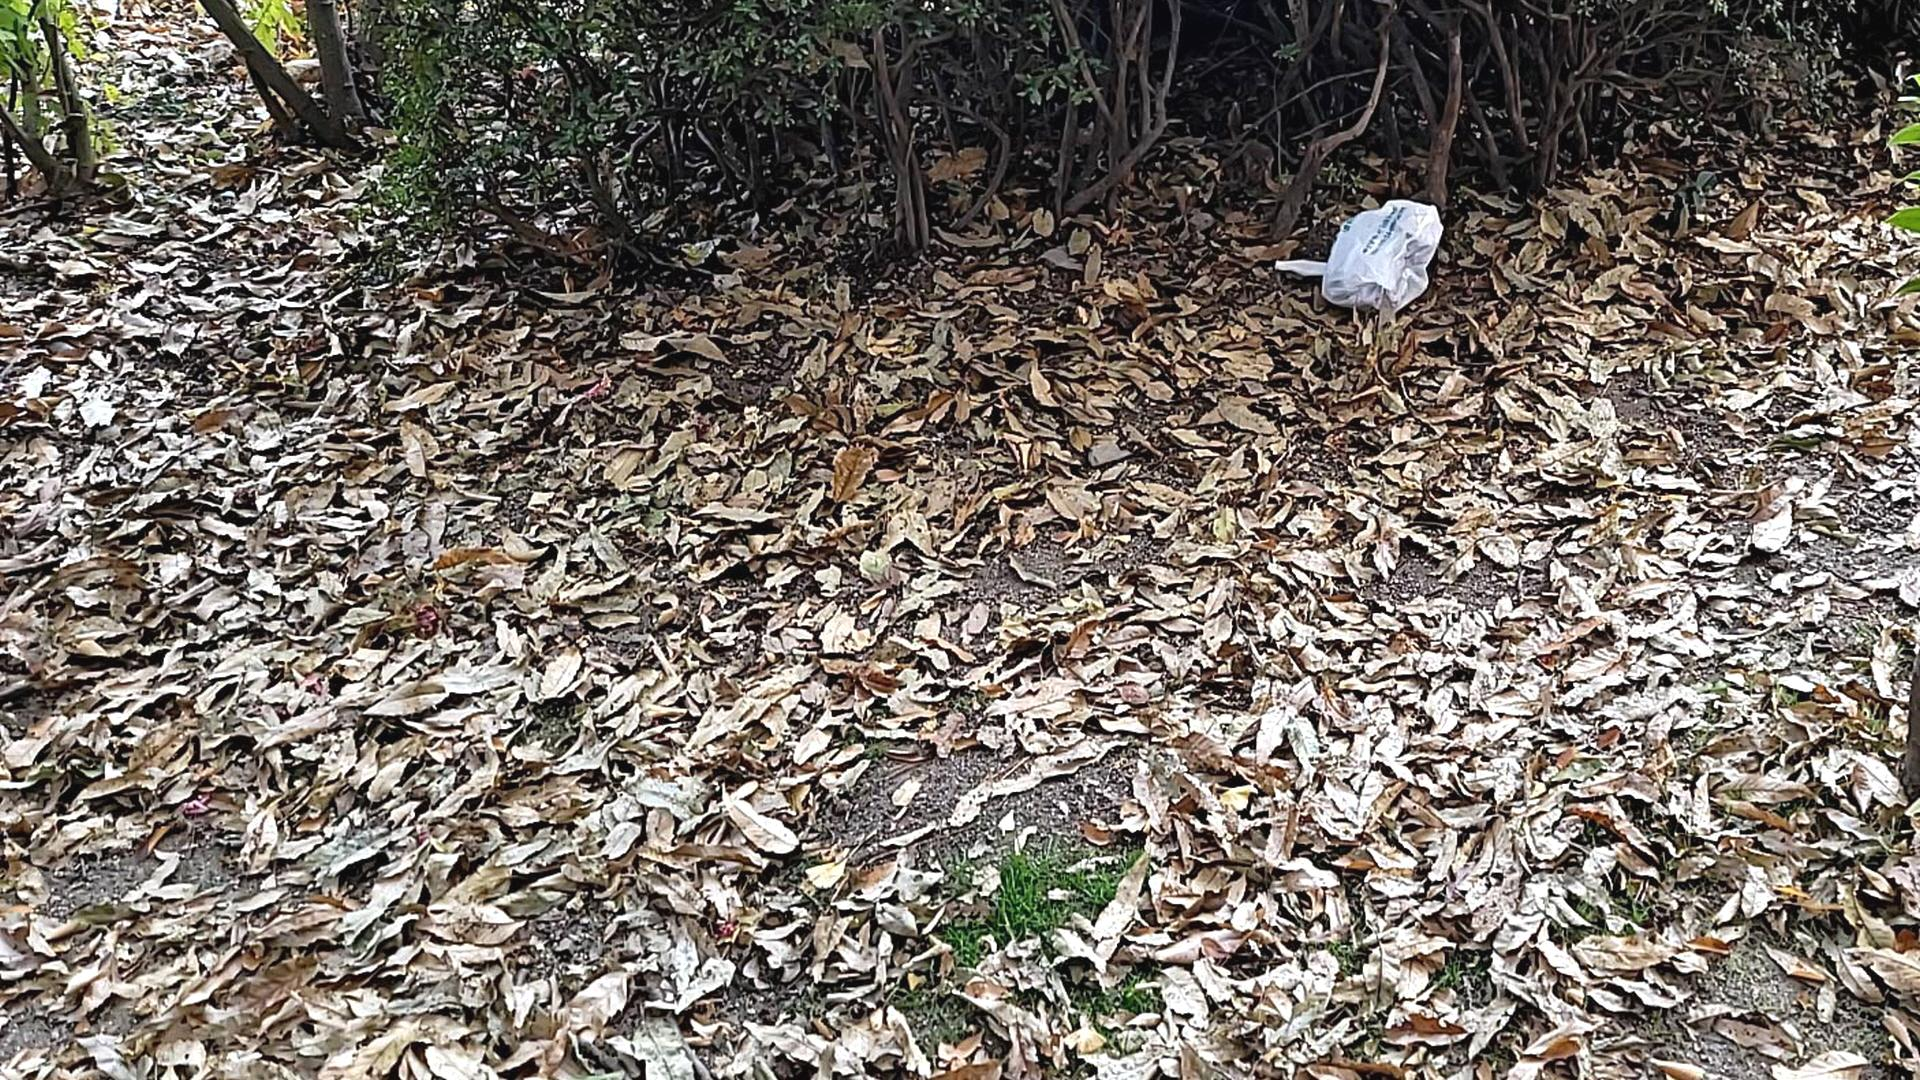white_bag: (1267, 193, 1443, 324)
